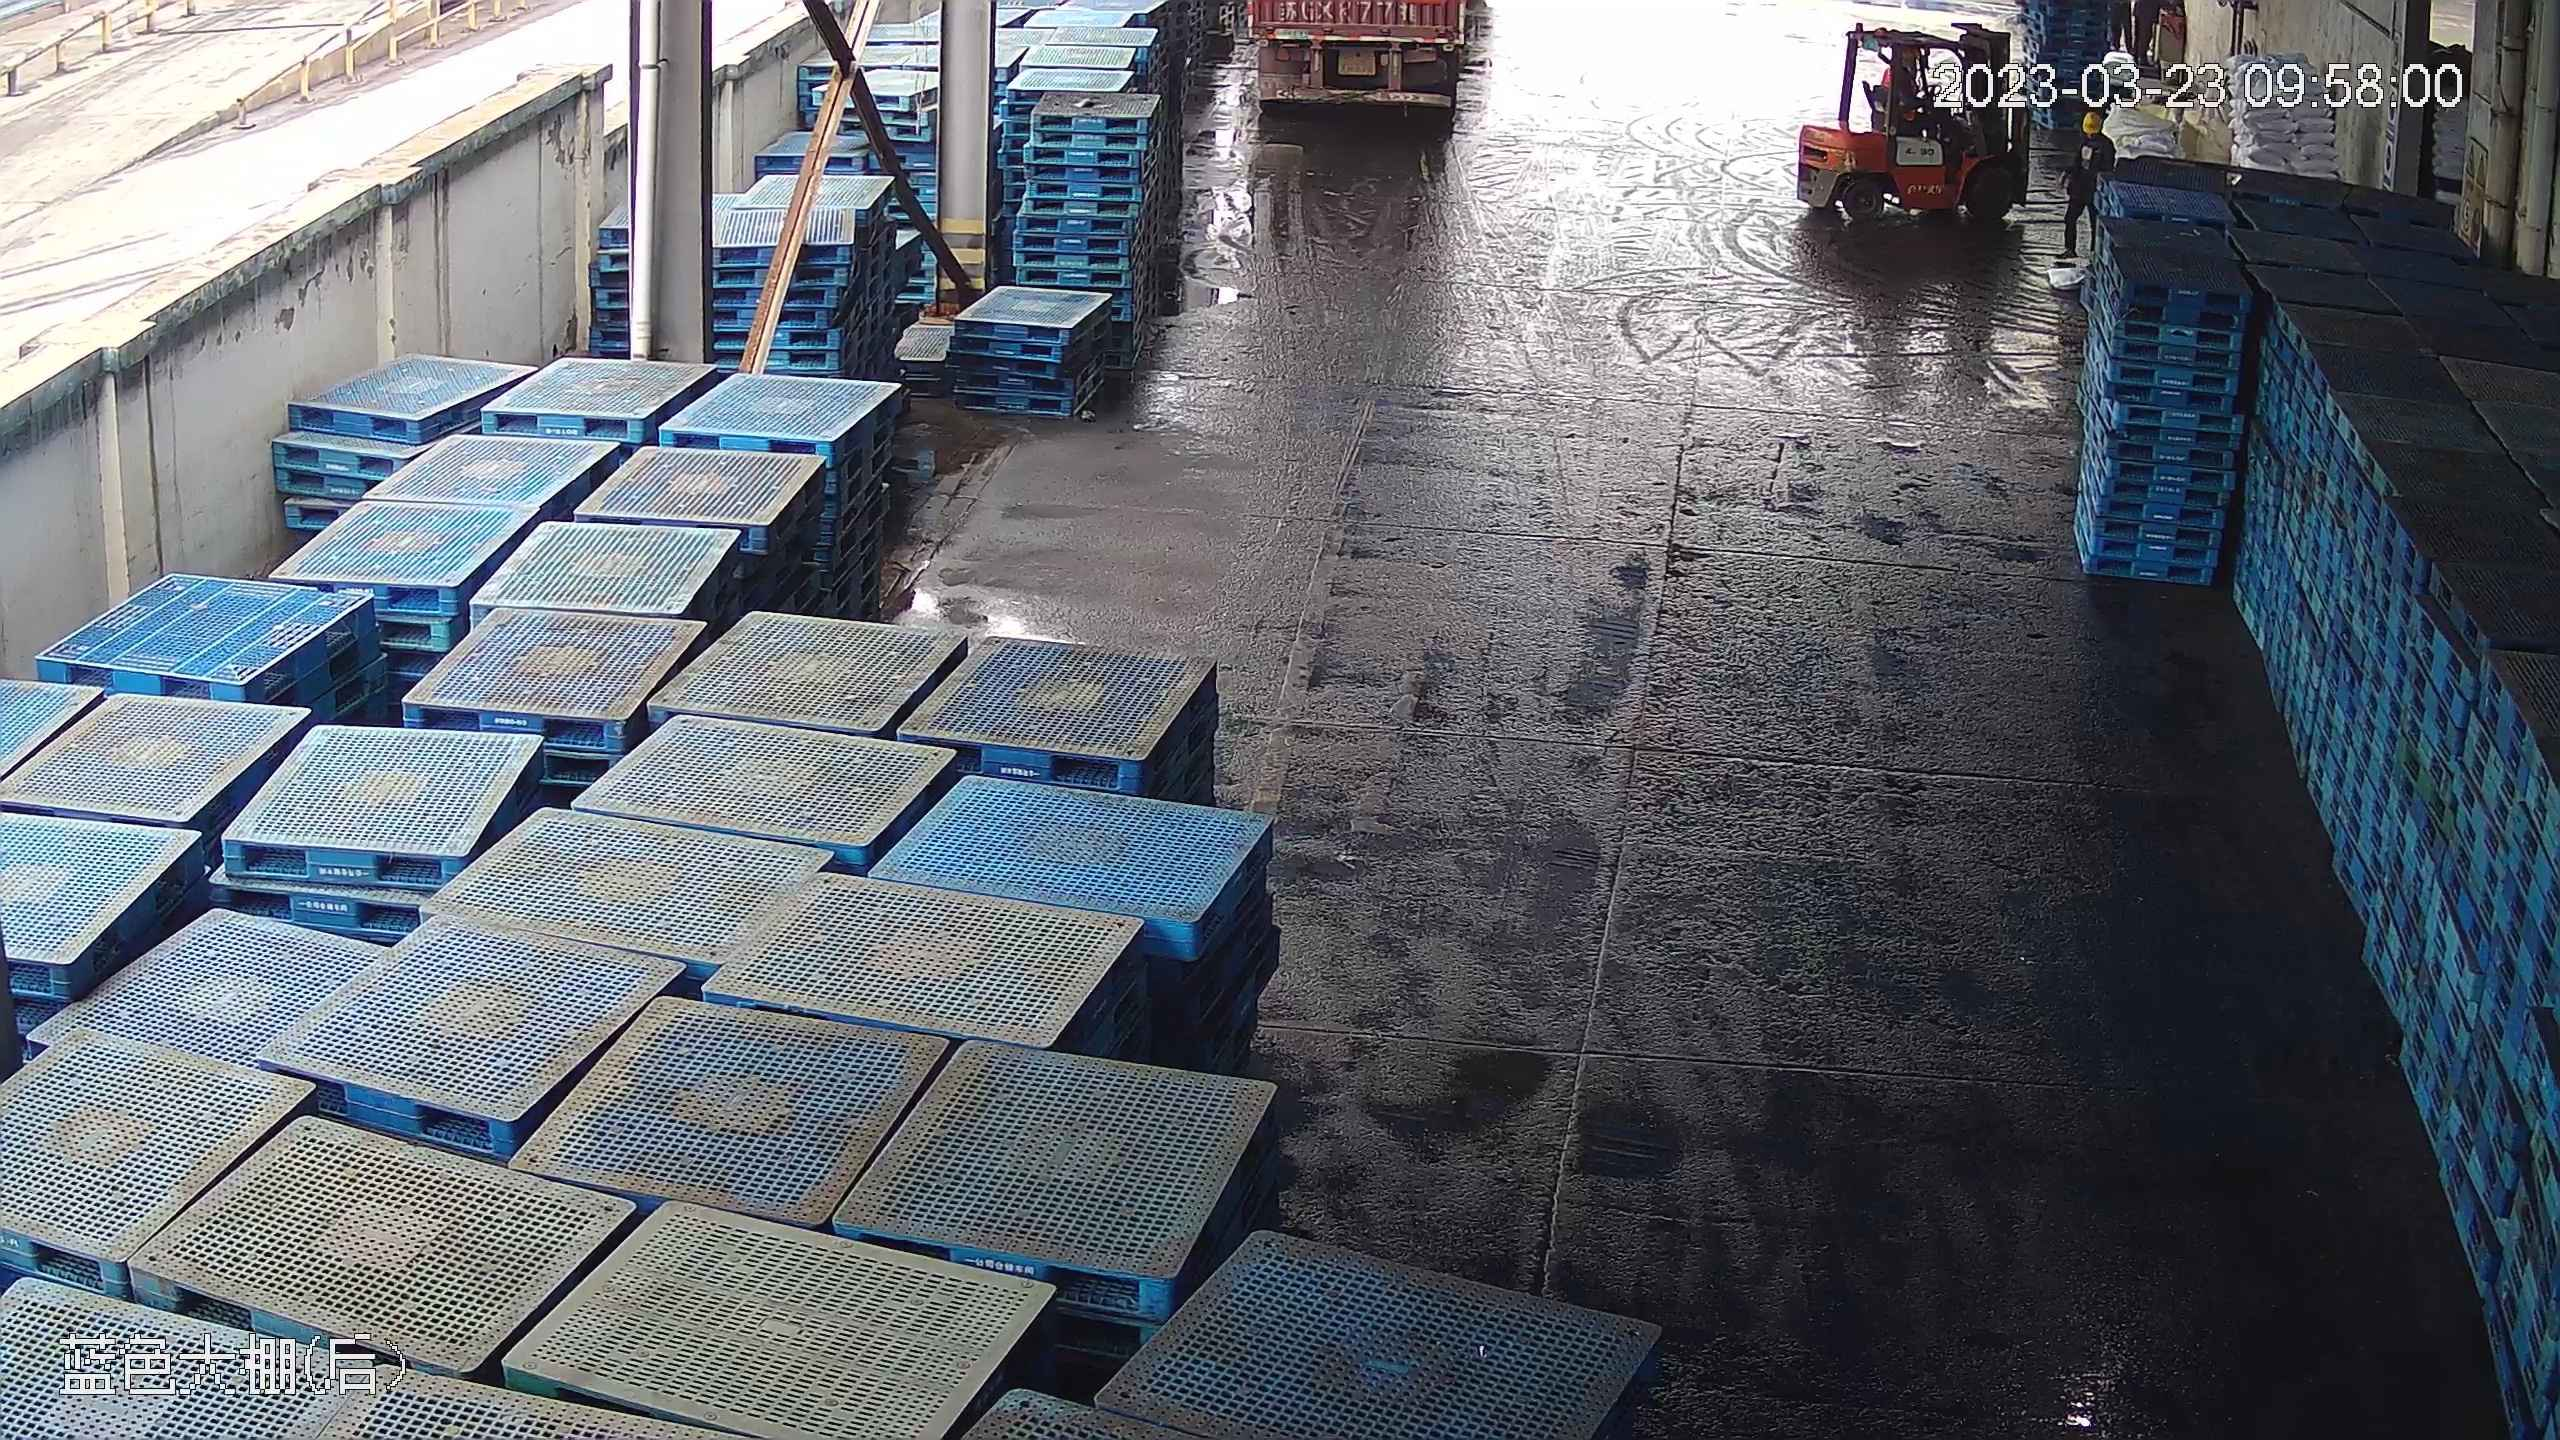head: (2070, 112, 2110, 160)
helmet: (2080, 114, 2101, 137)
people: (2054, 104, 2105, 262)
truck: (1237, 1, 1492, 116)
